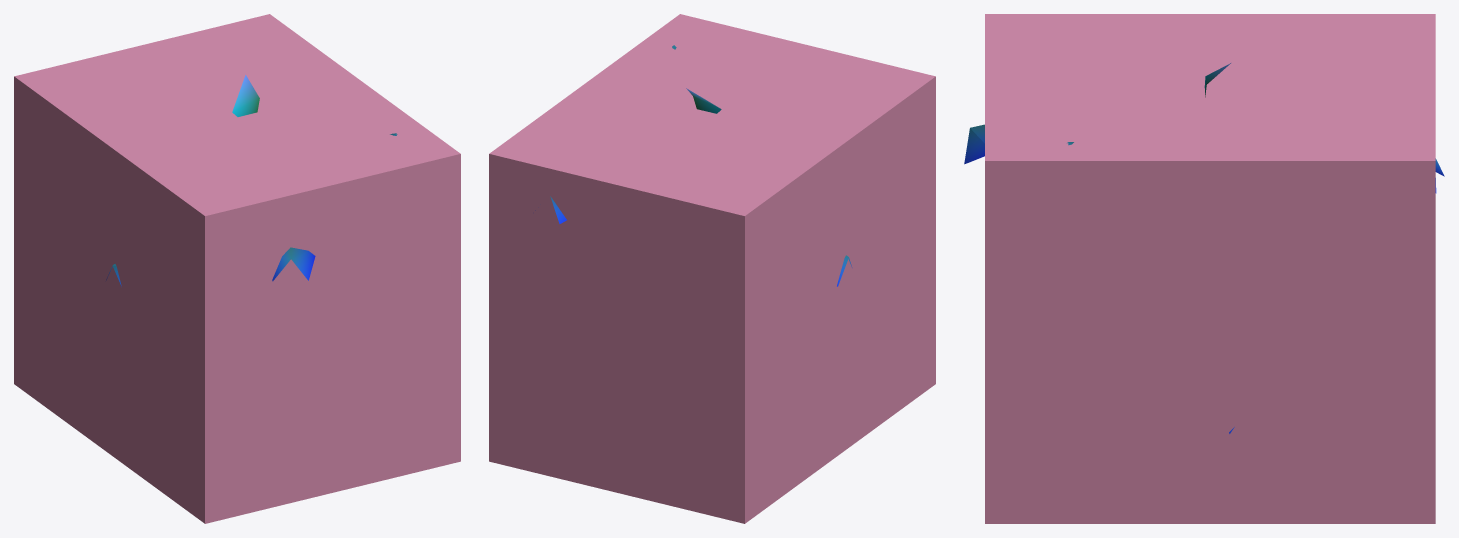
The model's file is undergrowth_eca_large_a.dae.
3 views of the same model, side by side, from view 1: azimuth 30°, elevation 25°; view 2: azimuth 150°, elevation 25°; view 3: azimuth 270°, elevation 25° (orthographic). The views are drawn at different scales.
Parts seen in each view (by area): view 1: Untitled, tree_oak_bush_a350; view 2: Untitled, tree_oak_bush_a350; view 3: Untitled, tree_oak_bush_a350.
Boxes of the visible parts, x1,y1,x2,y2 form: Untitled: (14,14,460,523); tree_oak_bush_a350: (106,75,397,286); Untitled: (489,14,935,523); tree_oak_bush_a350: (535,45,852,286); Untitled: (985,14,1435,523); tree_oak_bush_a350: (964,63,1444,433).
Bounding box in the file's own units: 3.9 × 5.31 × 4.91.
